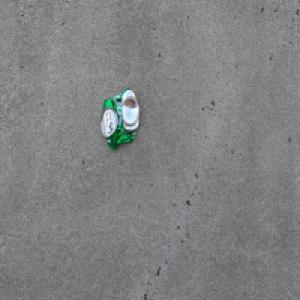SodaCan: (100, 87, 140, 151)
